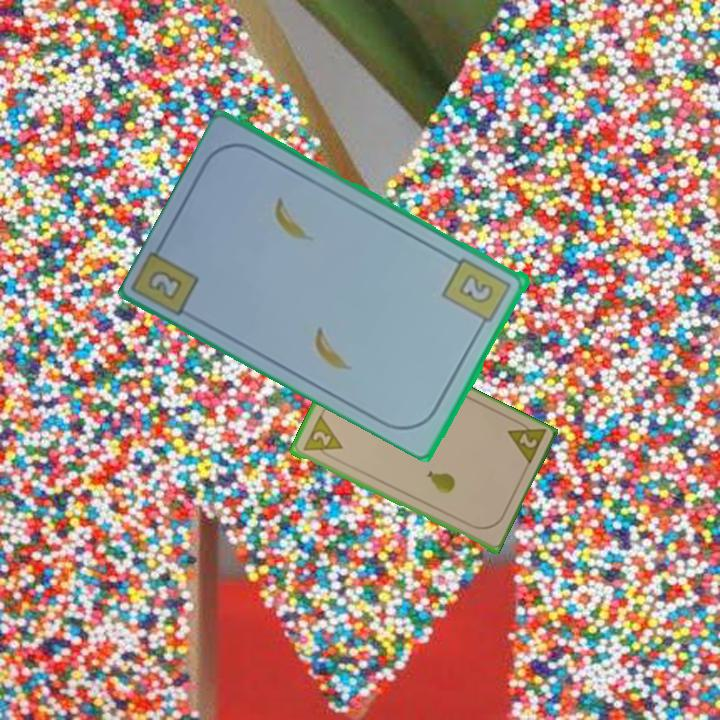2b: (439, 253, 515, 333), (144, 266, 186, 303)
2p: (503, 415, 548, 469), (299, 413, 345, 462)
